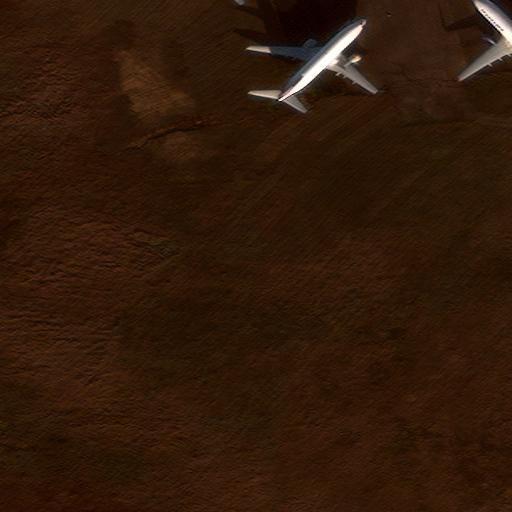Medium Civil Transport: (250, 18, 378, 102), (458, 0, 512, 82)
